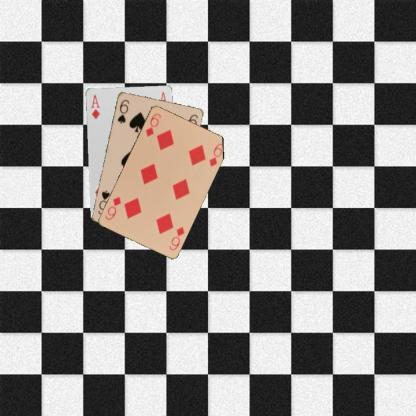6d: (166, 224, 186, 251), (142, 110, 161, 138)
6s: (114, 96, 130, 125)
Ad: (88, 92, 102, 120)
